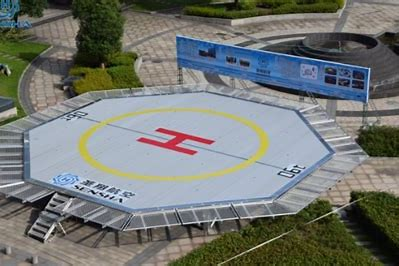H: (135, 127, 215, 157)
